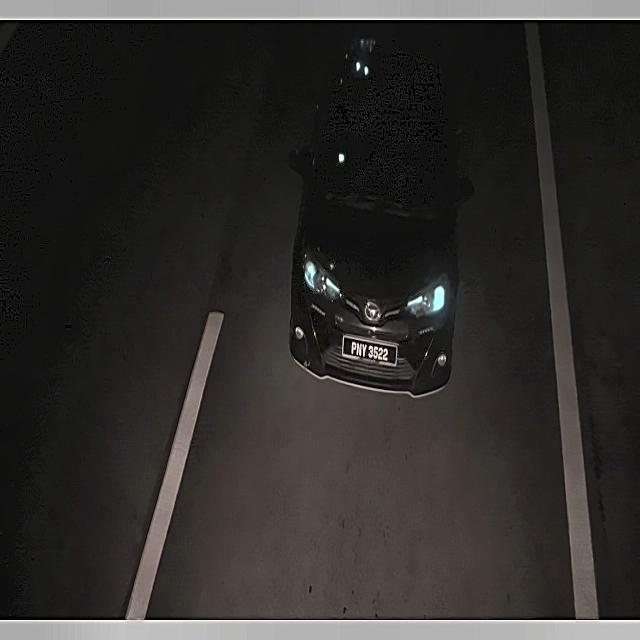car: (339, 332, 398, 371)
